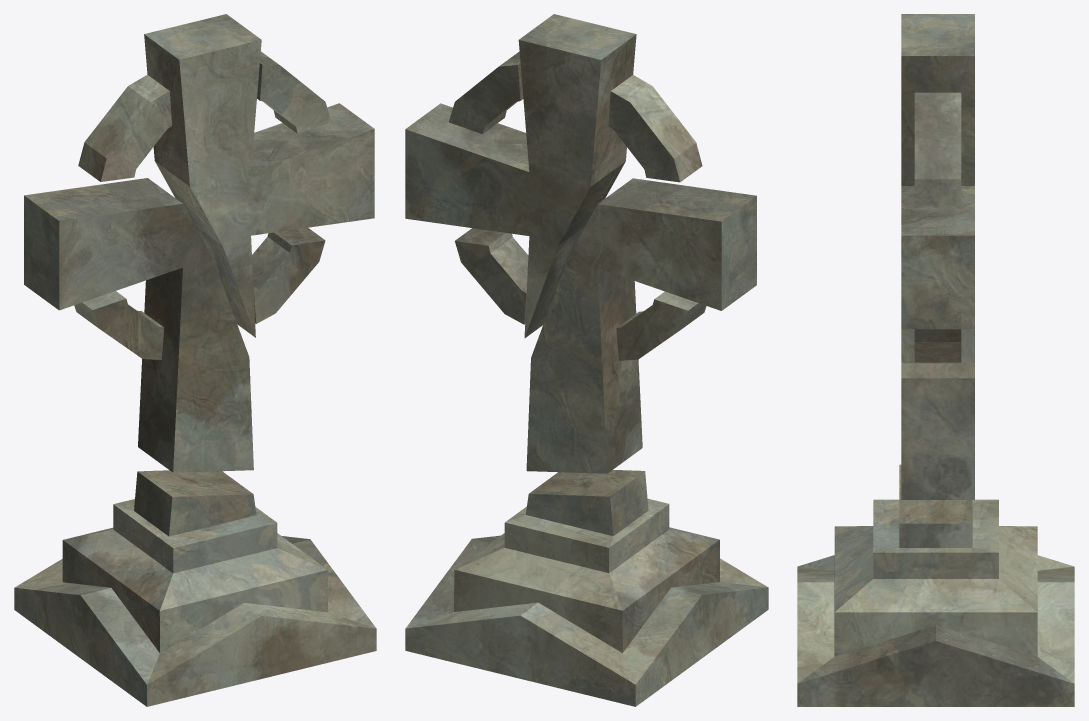
File: grave.glb
The picture shows the model from 3 angles, left to right: view 1: azimuth 30°, elevation 25°; view 2: azimuth 150°, elevation 25°; view 3: azimuth 270°, elevation 25°; orthographic projection. The views are drawn at different scales.
Parts seen in each view (by area): view 1: Gravestone; view 2: Gravestone; view 3: Gravestone.
Part boxes in pixels (box(x1,y1,x2,y2)): Gravestone: box(14, 14, 376, 706); Gravestone: box(405, 14, 768, 706); Gravestone: box(797, 14, 1074, 706).
Size of the model in its own units: 0.8568 by 1.53 by 0.624.
1 material, 1 textured.
